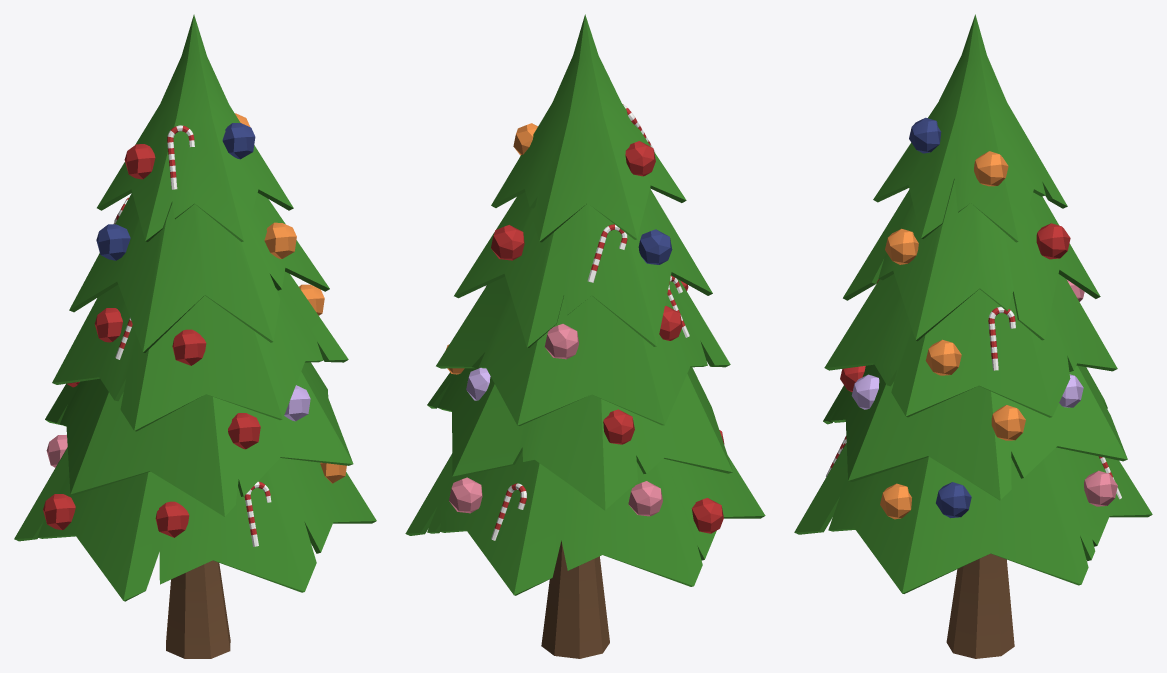
File: Gift tree.fbx
3 views of the same model, side by side, from view 1: azimuth 30°, elevation 25°; view 2: azimuth 150°, elevation 25°; view 3: azimuth 270°, elevation 25° (orthographic).
Visible parts, largest first — view 1: Gift tree; view 2: Gift tree; view 3: Gift tree.
Boxes of the visible parts, x1,y1,x2,y2 form: Gift tree: (14, 14, 376, 658); Gift tree: (405, 14, 765, 658); Gift tree: (794, 14, 1152, 658).
Size of the model in its own units: 133 by 276 by 143.
Materials: 1 (1 with a texture image).
